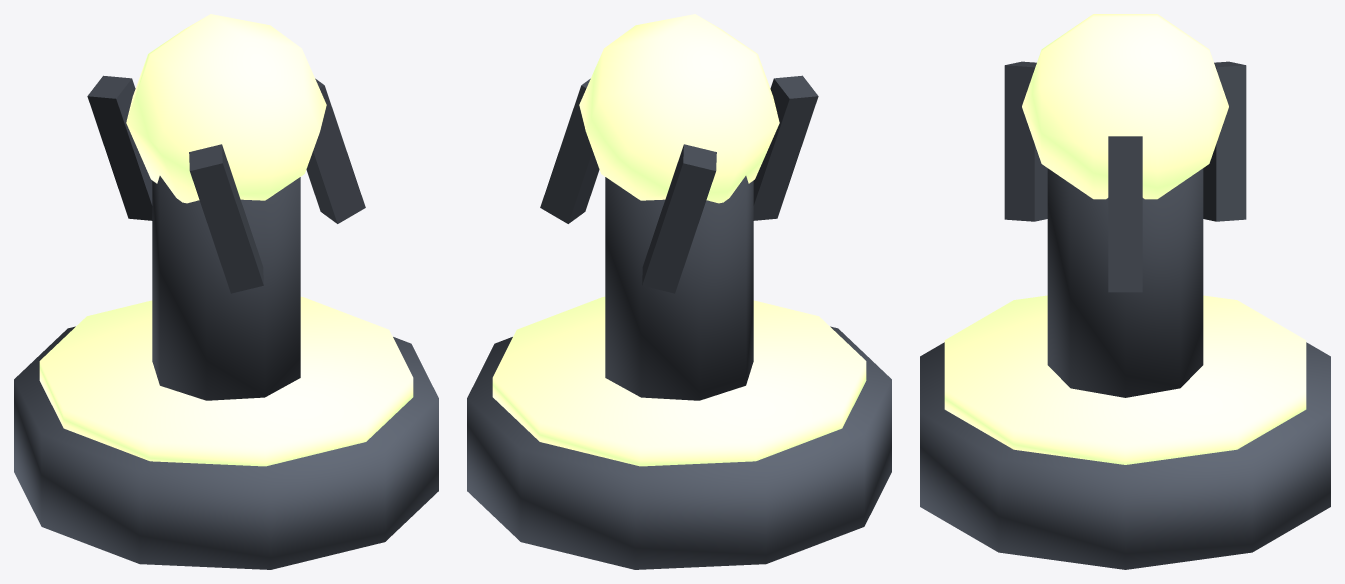
The model's file is dep_field.glb.
The picture shows the model from 3 angles, left to right: view 1: azimuth 30°, elevation 25°; view 2: azimuth 150°, elevation 25°; view 3: azimuth 270°, elevation 25°; orthographic projection.
Parts seen in each view (by area): view 1: dep_field; view 2: dep_field; view 3: dep_field.
Boxes of the visible parts, <box> form: dep_field: <box>14,14,438,569</box>; dep_field: <box>467,14,891,569</box>; dep_field: <box>920,14,1330,569</box>.
Bounding box in the file's own units: 1 × 1.18 × 0.951.
